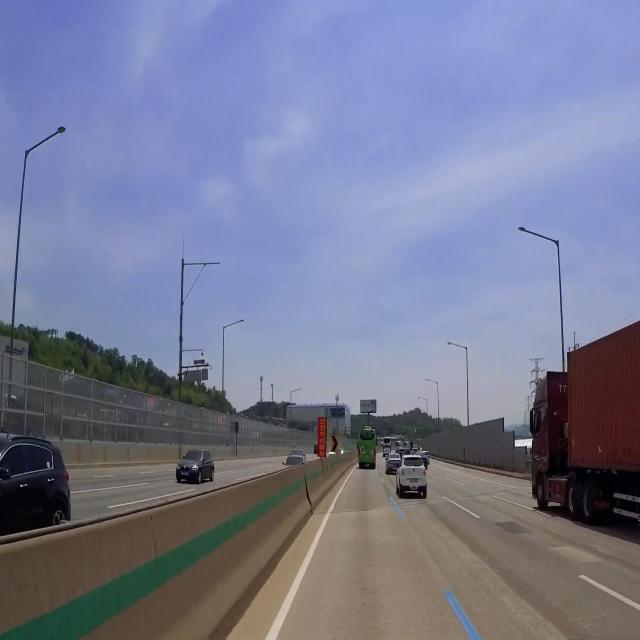car: (180, 466, 192, 483), (407, 475, 422, 488)
